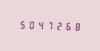eight: (71, 20, 79, 32)
five: (17, 18, 25, 30)
four: (35, 19, 43, 30)
seven: (44, 19, 52, 31)
six: (62, 20, 70, 31)
two: (53, 20, 61, 31)
zero: (26, 19, 34, 30)
